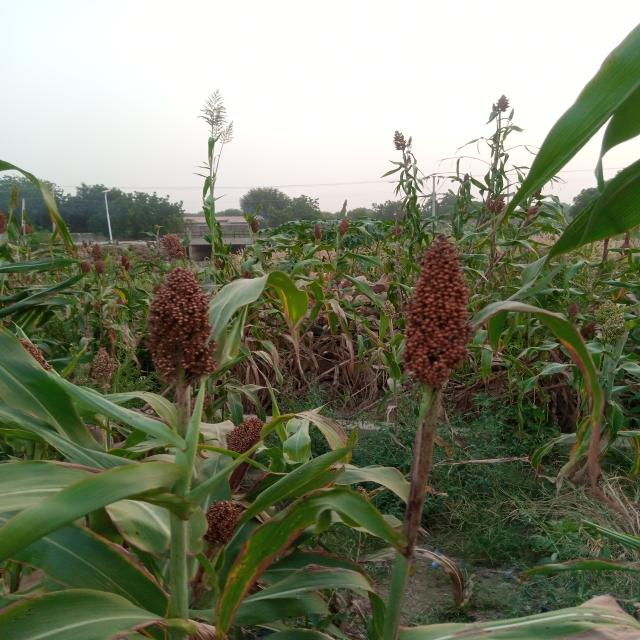RipeSorghum: (382, 235, 497, 406), (128, 257, 249, 398)
